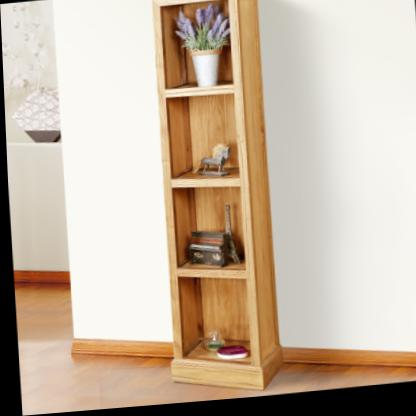Cupboard: (151, 0, 280, 395)
